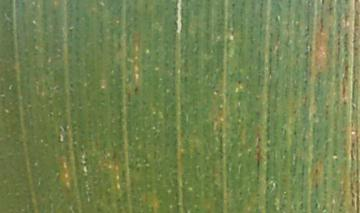tarspot: (349, 147, 355, 162), (230, 1, 237, 10), (313, 181, 319, 191), (311, 112, 317, 121), (133, 85, 138, 95), (342, 99, 349, 106), (313, 167, 319, 175), (290, 109, 298, 115), (313, 202, 318, 211), (66, 27, 73, 33), (68, 82, 75, 88), (302, 78, 309, 84), (292, 129, 298, 136), (256, 136, 262, 143), (354, 178, 360, 185), (236, 79, 242, 85), (320, 1, 326, 6), (350, 141, 356, 146), (171, 91, 175, 97)
